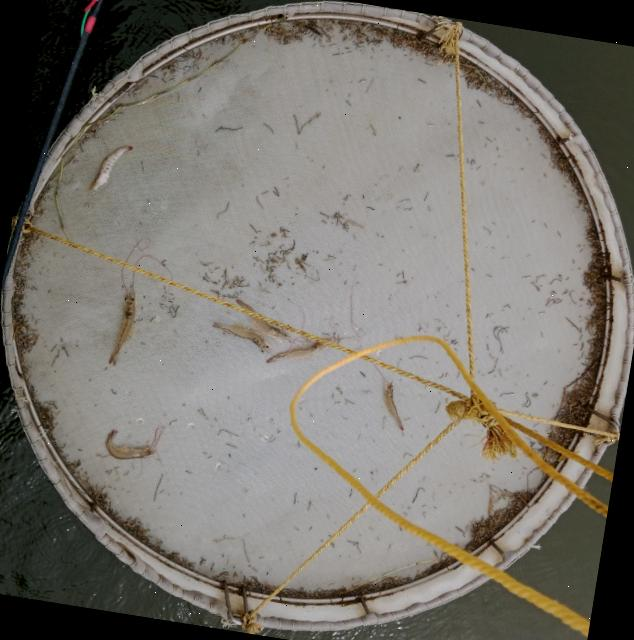shrimp: (267, 335, 341, 362), (110, 290, 136, 363), (90, 146, 132, 191), (213, 322, 269, 351), (106, 429, 156, 460), (384, 382, 404, 430)
